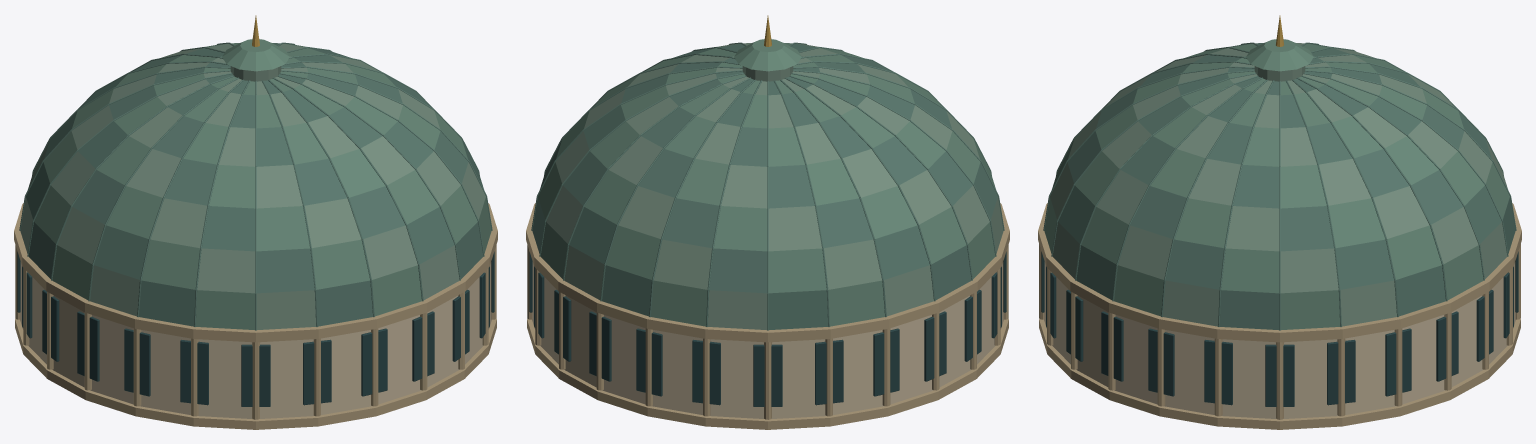
Rendered from lib_dome.glb.
3 views of the same model, side by side, from view 1: azimuth 30°, elevation 25°; view 2: azimuth 150°, elevation 25°; view 3: azimuth 270°, elevation 25° (orthographic).
Visible parts, largest first — view 1: dome; view 2: dome; view 3: dome.
Boxes of the visible parts, x1,y1,x2,y2 form: dome: (14, 15, 497, 429); dome: (526, 15, 1009, 429); dome: (1038, 15, 1521, 429).
Bounding box in the file's own units: 9.12 × 6.53 × 9.12.
